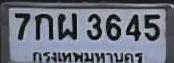3: (86, 13, 101, 39)
4: (125, 13, 140, 40)
5: (143, 13, 159, 40)
6: (105, 13, 120, 40)
7: (14, 12, 29, 39)
A01: (34, 12, 52, 40)
A28: (57, 12, 76, 40)
BKK: (31, 48, 145, 63)
